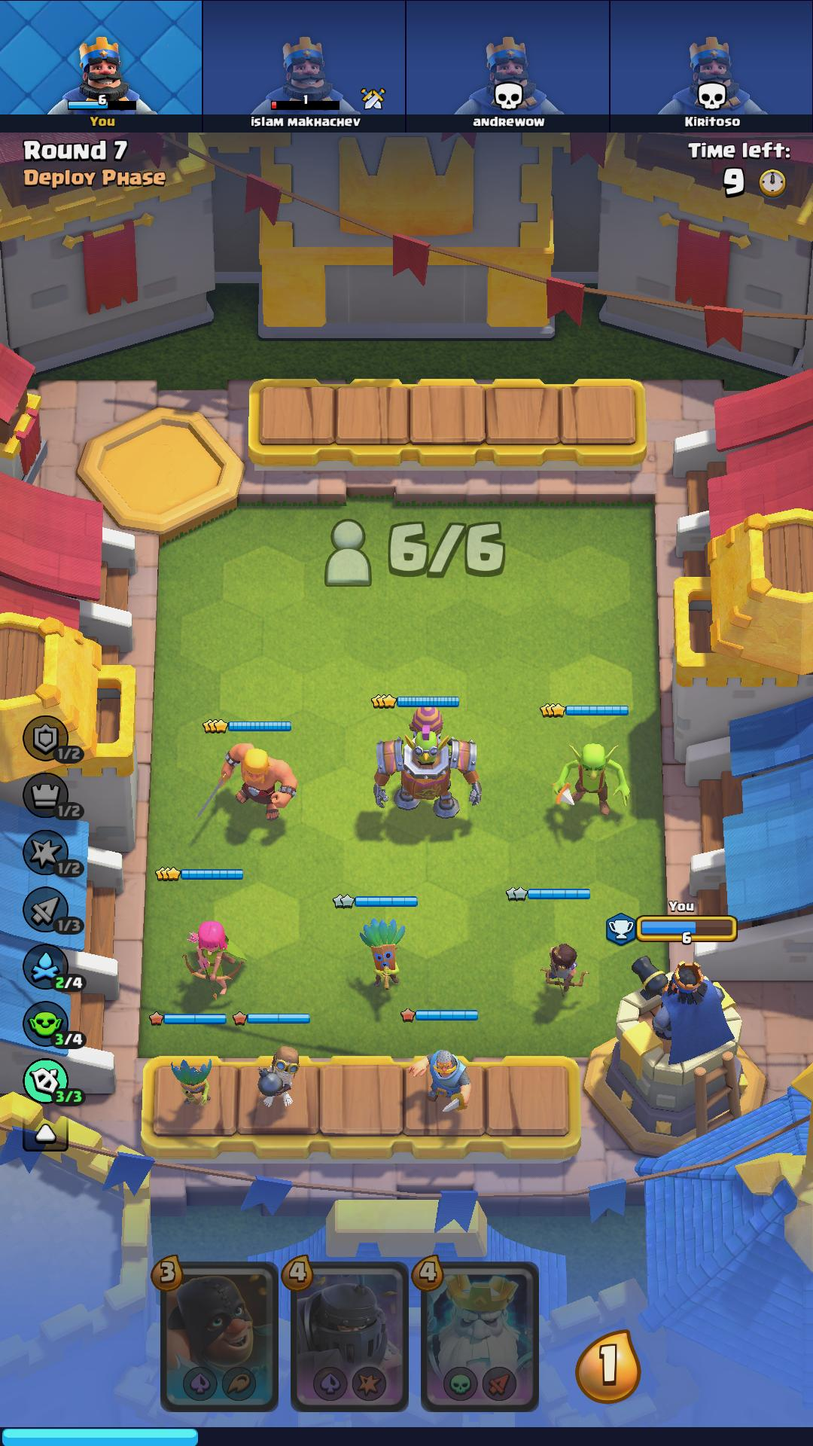archer: (185, 917, 245, 996)
barbarian: (213, 737, 292, 824)
bomber: (245, 1039, 307, 1110)
dart: (357, 916, 408, 992), (171, 1058, 214, 1107)
goblin: (550, 738, 632, 824)
hand-executioner: (157, 1263, 279, 1410)
hand-ghost: (424, 1263, 544, 1409)
hand-mega: (289, 1263, 405, 1413)
knight: (412, 1041, 476, 1118)
machine: (365, 712, 482, 827)
princess: (537, 939, 591, 1002)
